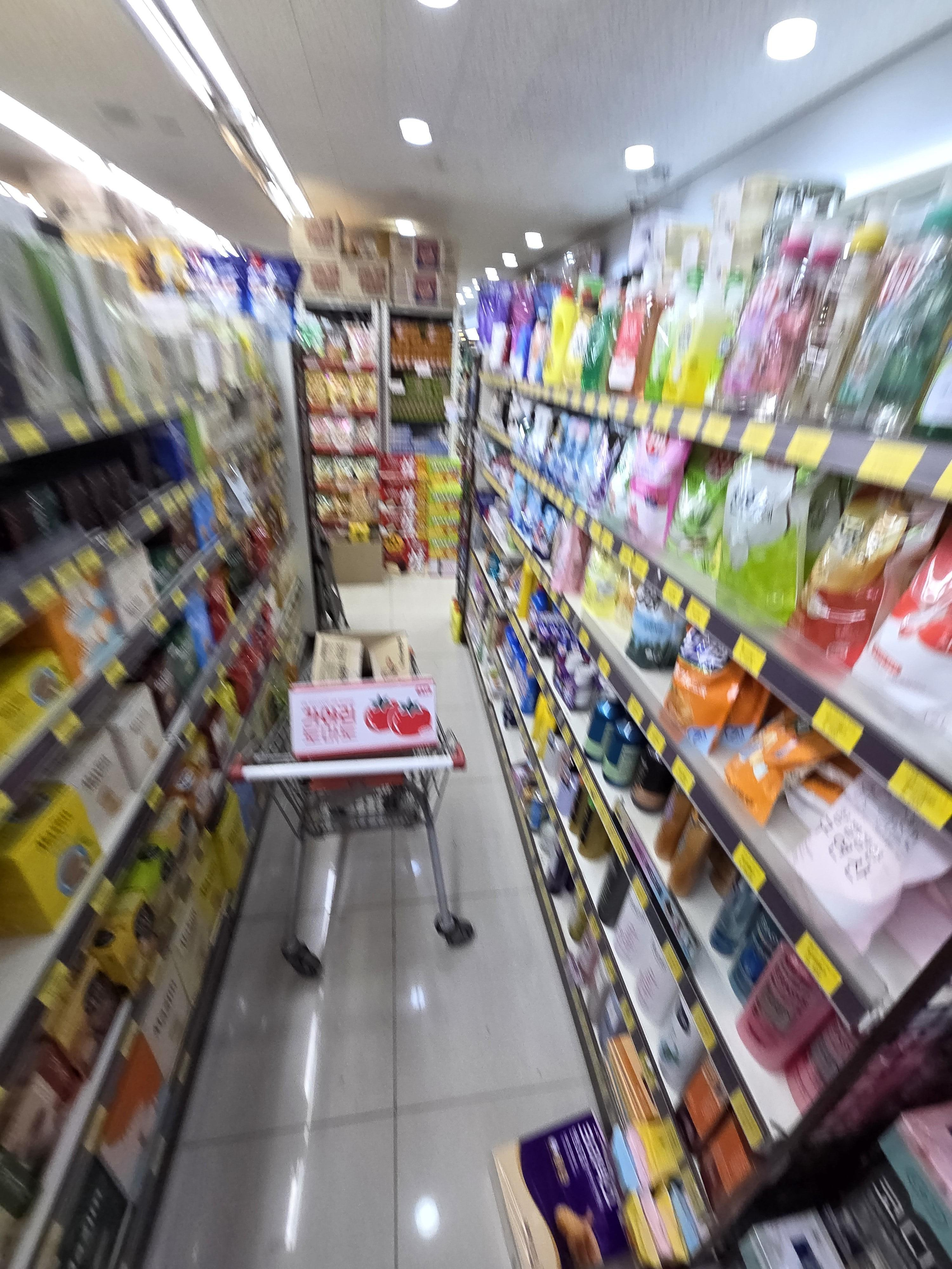fully_cart: (215, 619, 473, 997)
